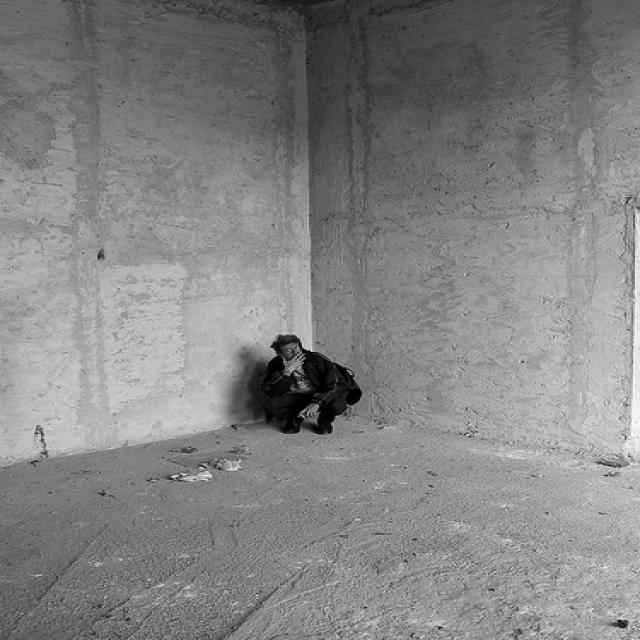person: (257, 333, 365, 438)
